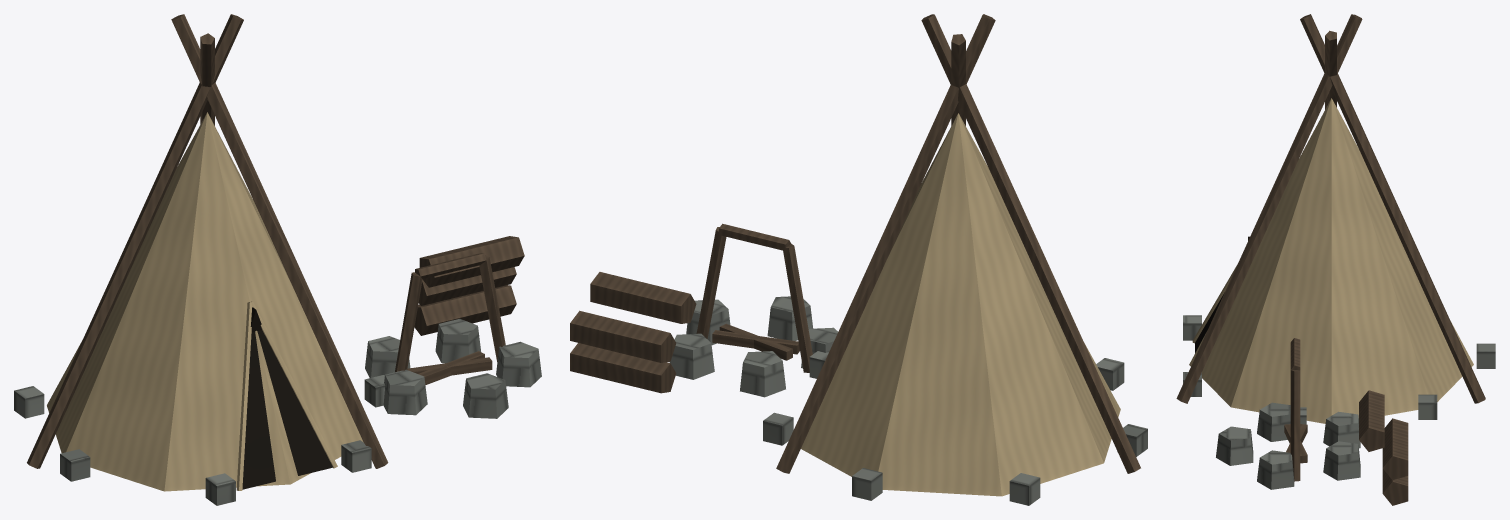
The model's file is camp.glb.
3 renders of one model, left to right at view 1: azimuth 30°, elevation 25°; view 2: azimuth 150°, elevation 25°; view 3: azimuth 270°, elevation 25°, orthographic. The views are drawn at different scales.
Visible parts, largest first — view 1: camp; view 2: camp; view 3: camp.
Boxes of the visible parts, x1,y1,x2,y2 form: camp: (14, 14, 541, 505); camp: (570, 14, 1147, 505); camp: (1176, 14, 1495, 505).
Size of the model in its own units: 0.8642 by 0.6451 by 0.5372.
Materials: 1 (1 with a texture image).
